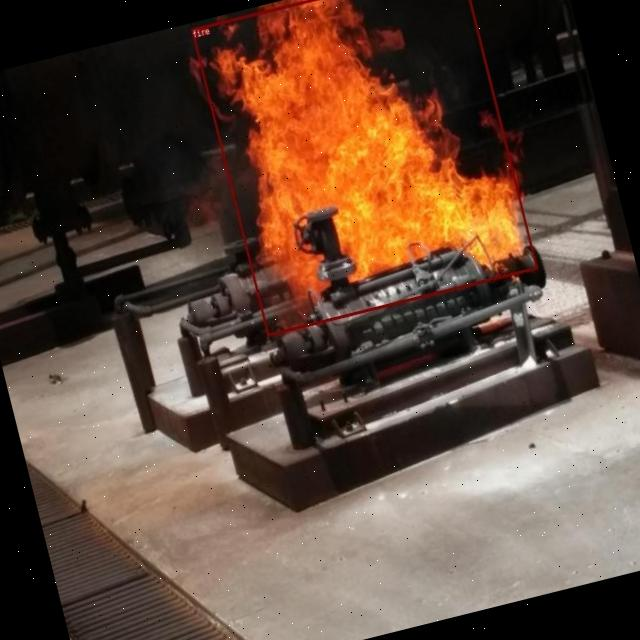fire: (190, 0, 536, 335)
